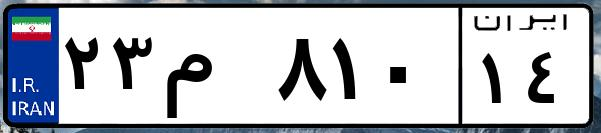0: (385, 28, 445, 110)
1: (330, 28, 385, 110), (475, 38, 525, 113)
2: (57, 26, 110, 100)
3: (110, 28, 158, 98)
4: (525, 38, 570, 115)
8: (270, 28, 330, 110)
م: (158, 20, 270, 120)
